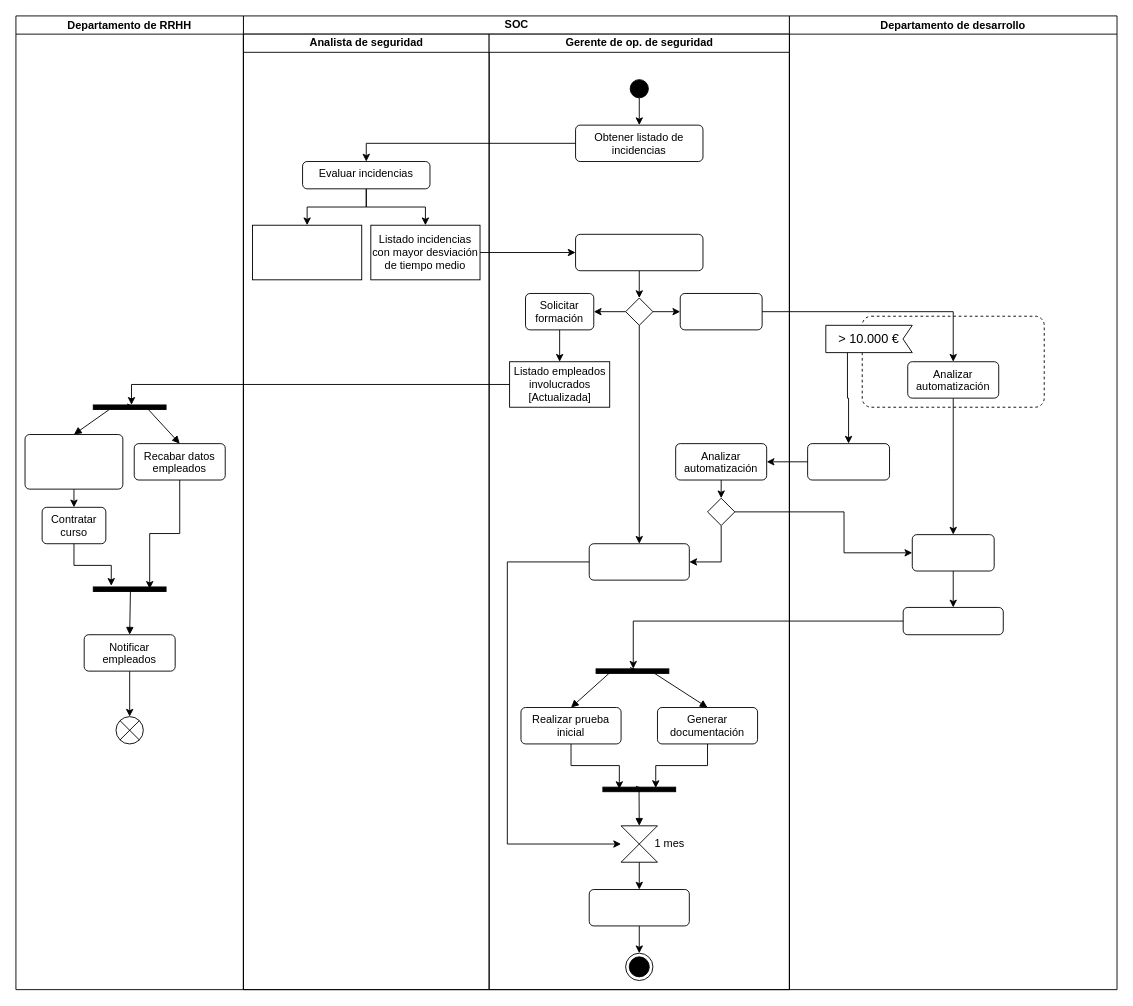
This 1133x1006 diagram has some shape labels left out. The centre of each missing label's shape, as x and y in pixels:
Consultar catálogo centro de formación: [73,461]
Consultar gerencia: [848,461]
Desarrollar herramienta: [952,552]
Enviar a SOC: [952,621]
Evaluar efectividad de las medidas: [638,907]
Evaluar posibilidad de mejora: [639,252]
Listado empleados involucrados: [307,252]
Marcar para revisión posterior: [638,561]
Solicitar automatización: [720,311]
